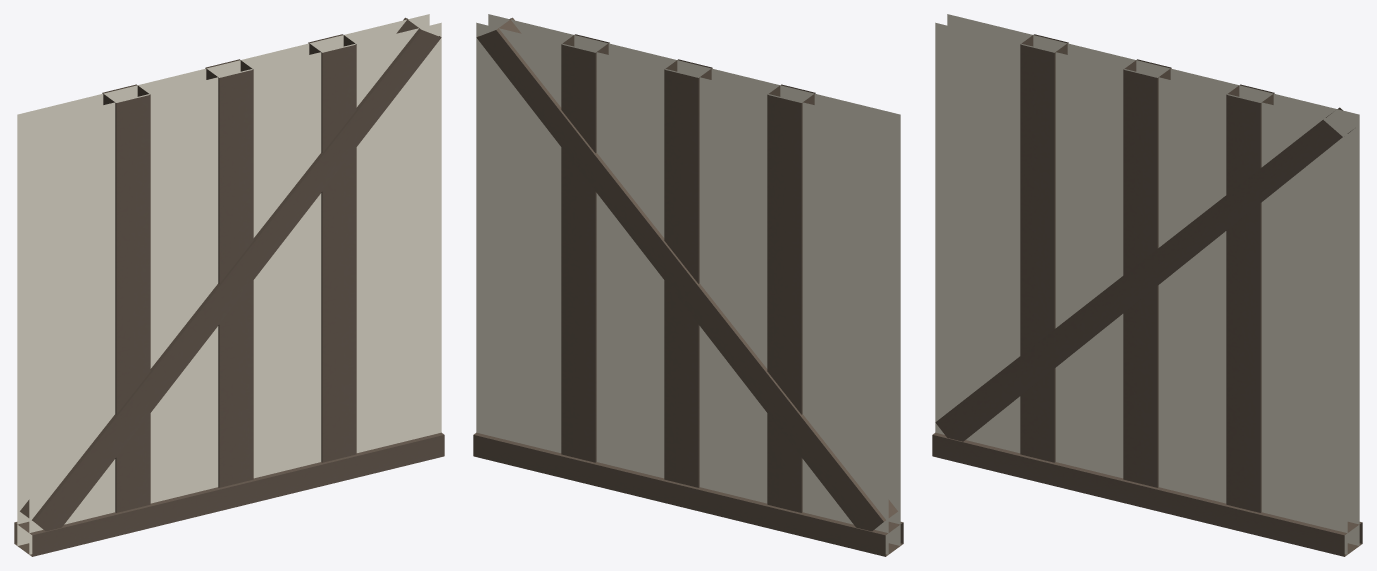
Rendered from Wall_1B.fbx.
3 views of the same model, side by side, from view 1: azimuth 30°, elevation 25°; view 2: azimuth 150°, elevation 25°; view 3: azimuth 330°, elevation 25° (orthographic).
Parts seen in each view (by area): view 1: pCube760; view 2: pCube760; view 3: pCube760.
Boxes of the visible parts, x1=… form: pCube760: x1=14, y1=14, x2=444, y2=556; pCube760: x1=473, y1=14, x2=903, y2=556; pCube760: x1=932, y1=14, x2=1362, y2=556.
Bounding box in the file's own units: 400 × 400 × 30.
